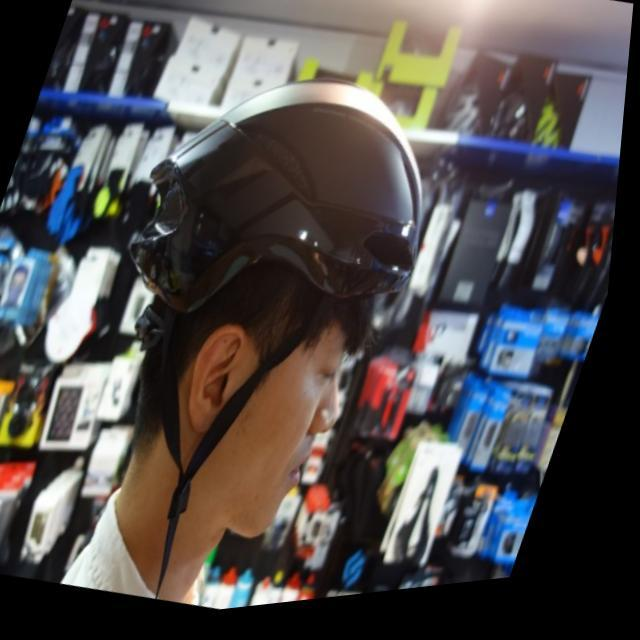Helmet: (125, 77, 425, 538)
